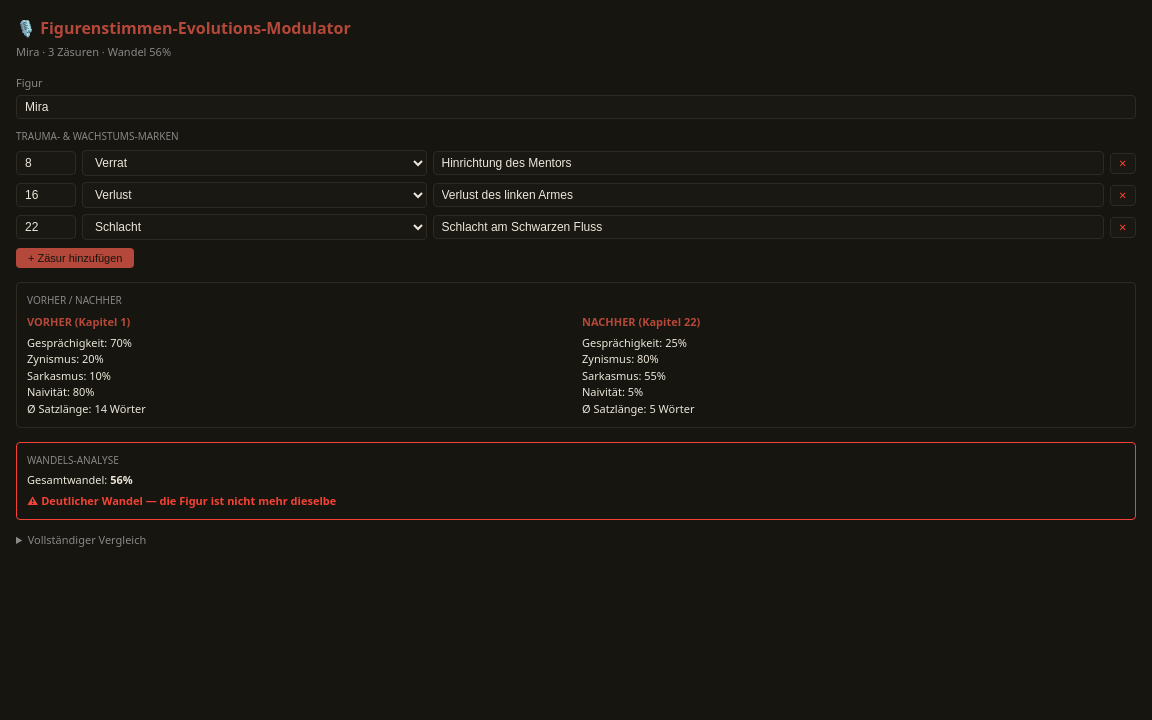
Scenario: CharacterVoiceEvolutionModal › reagiert auf Figurennamen-Eingabe
The width and height of the screenshot is (1152, 720).
Replace the text in the field with test id "voice-character-input" with "Kael": (576, 107) [16,95,1136,119]
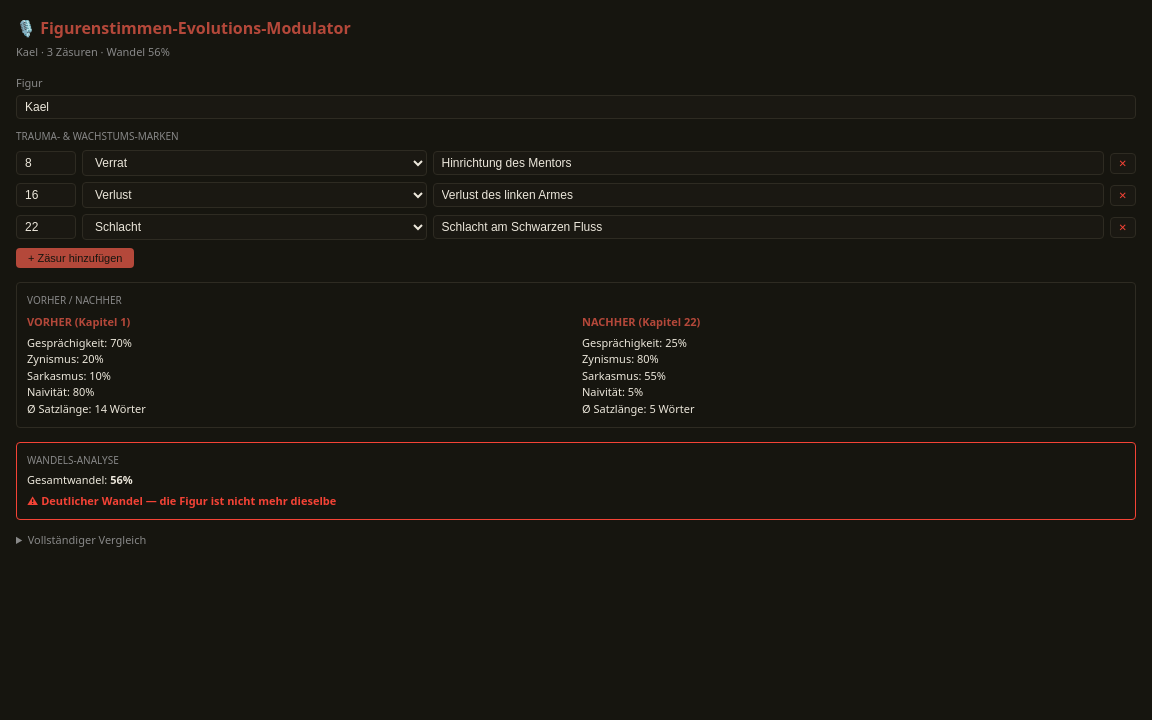
Expected: the element with test id "character-voice-evolution-modal" shows "Kael", [16,44,38,59]
